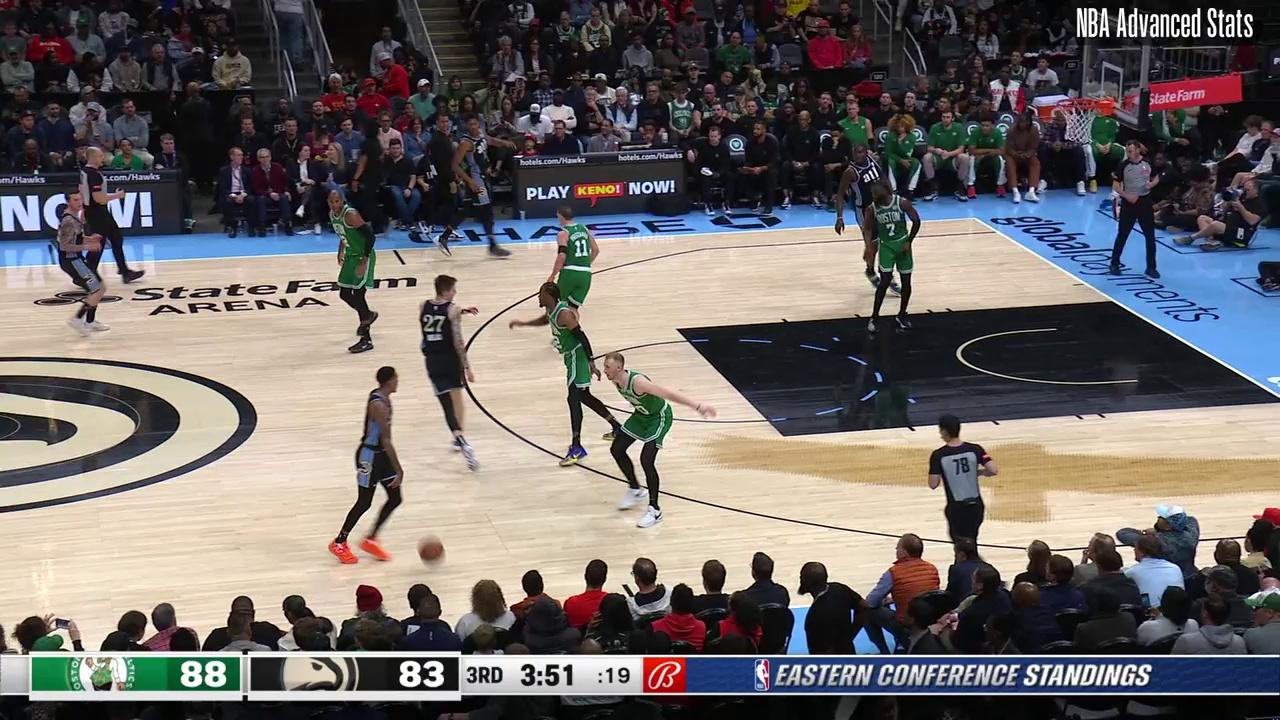3_sx: (993, 227, 1003, 236)
b_sx: (971, 215, 980, 223)
free_adx: (778, 431, 788, 440)
free_asx: (671, 325, 681, 335)
free_bsx: (1109, 297, 1118, 305)
mid_dx: (620, 580, 629, 588)
mid_sx: (399, 261, 409, 268)
referee: (927, 414, 999, 569), (66, 148, 146, 284), (1108, 143, 1163, 278)
team: (507, 283, 628, 472), (600, 353, 711, 531), (320, 191, 390, 356), (859, 180, 924, 332), (543, 205, 602, 359)
team1: (329, 366, 404, 563), (420, 273, 486, 468), (436, 115, 517, 259), (834, 143, 909, 293), (56, 191, 109, 338)
timer: (515, 653, 588, 696)
